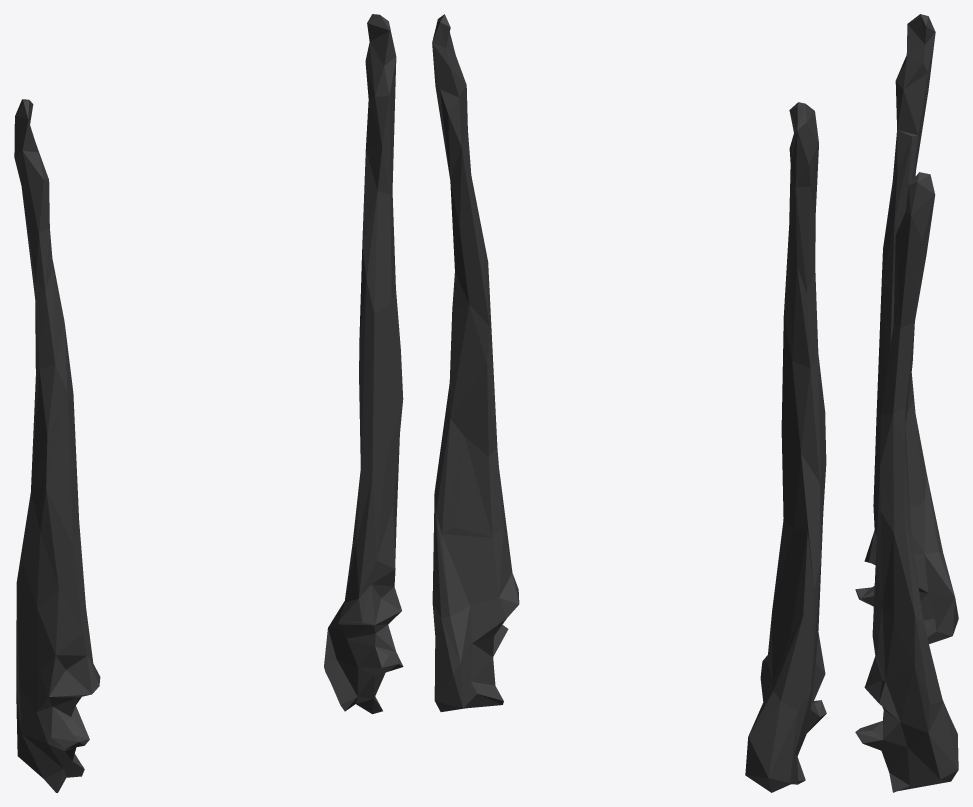
File: Ulna.glb
The picture shows the model from 3 angles, left to right: view 1: azimuth 30°, elevation 25°; view 2: azimuth 150°, elevation 25°; view 3: azimuth 270°, elevation 25°; orthographic projection. The views are drawn at different scales.
Visible parts, largest first — view 1: Ulna; view 2: Ulna; view 3: Ulna.
Part boxes in pixels (x1,y1,x2,y2): Ulna: (14, 14, 403, 792); Ulna: (432, 14, 826, 792); Ulna: (855, 14, 958, 792).
Bounding box in the file's own units: 0.00401 × 0.00699 × 0.00104.
Materials: 1 (1 with a texture image).
